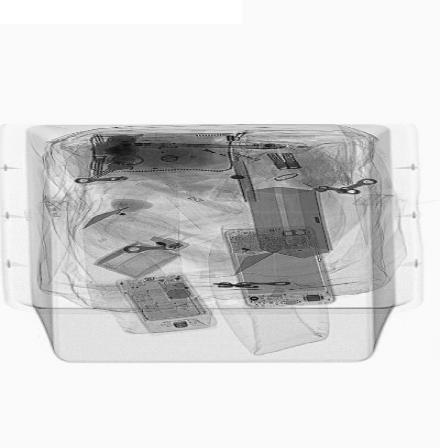Lighter: (198, 144, 263, 165)
